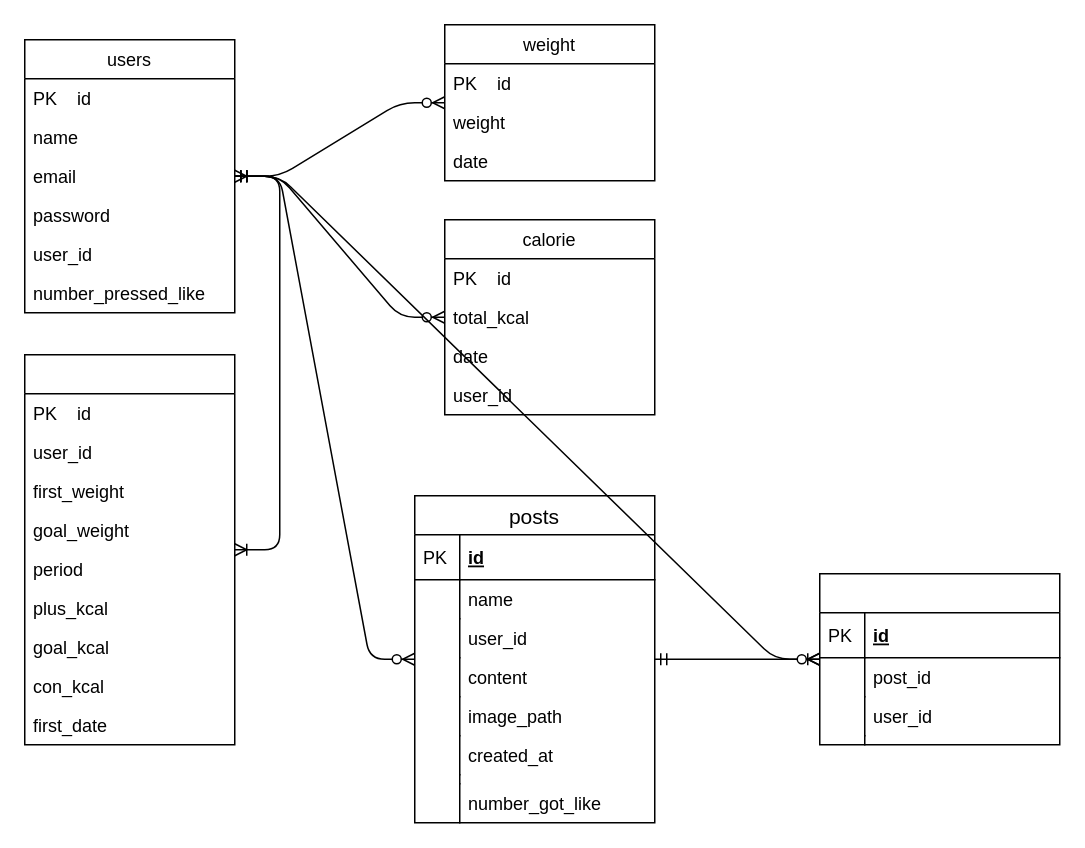
This 1085x848 diagram has some shape labels left out. The box of each missing label's shape, as (x1, y1, x2, y2) in pixels:
likes: (818, 572, 1060, 745)
users_data: (23, 353, 235, 745)
